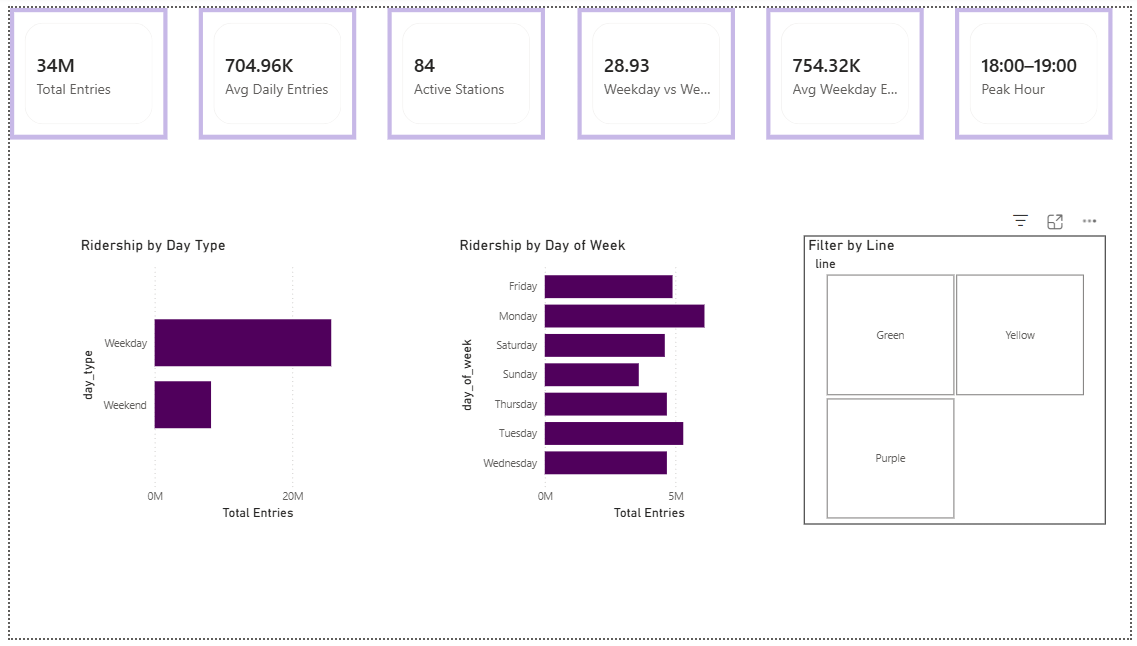

What the dashboard file says about the page in this screenshot:
{"tool":"powerbi","page":{"name":"Time Patterns","canvas":[1280,720],"ordinal":2},"visuals":[{"type":"cardVisual","fields":{"Data":["powerbi_ridership.Total Entries"]},"box":[0,0,180,150],"z":0},{"type":"cardVisual","fields":{"Data":["powerbi_ridership.Avg Daily Entries"]},"box":[216,0,180,150],"z":1000},{"type":"cardVisual","fields":{"Data":["powerbi_ridership.Active Stations"]},"box":[432,0,180,150],"z":2000},{"type":"cardVisual","fields":{"Data":["powerbi_ridership.Weekday vs Weekend %"]},"box":[648,0,180,150],"z":3000},{"type":"cardVisual","fields":{"Data":["powerbi_ridership.Peak Hour"]},"box":[1080,0,180,150],"z":4000},{"type":"cardVisual","fields":{"Data":["powerbi_ridership.Avg Weekday Entries"]},"box":[864,0,180,150],"z":5000},{"type":"clusteredBarChart","title":"Ridership by Day Type","fields":{"Category":["powerbi_ridership.day_type"],"Y":["powerbi_ridership.Total Entries"]},"box":[75.7,260,342.9,330],"z":5001},{"type":"clusteredBarChart","title":"Ridership by Day of Week","fields":{"Category":["powerbi_ridership.day_of_week"],"Y":["powerbi_ridership.Total Entries"]},"box":[508.6,260,355.7,330],"z":5002},{"type":"slicer","title":"Filter by Line","fields":{"Values":["powerbi_ridership.line"]},"box":[907.1,260,344.3,330],"z":5003}]}

Visuals, with their boxes in screenshot pixels (x1, y1, x2, y2), scaled from the page's 1280x720 canvas onto the 1137x646 screenshot:
cardVisual - powerbi_ridership.Total Entries: left=0, top=0, right=160, bottom=135
cardVisual - powerbi_ridership.Avg Daily Entries: left=192, top=0, right=352, bottom=135
cardVisual - powerbi_ridership.Active Stations: left=384, top=0, right=544, bottom=135
cardVisual - powerbi_ridership.Weekday vs Weekend %: left=576, top=0, right=735, bottom=135
cardVisual - powerbi_ridership.Peak Hour: left=959, top=0, right=1119, bottom=135
cardVisual - powerbi_ridership.Avg Weekday Entries: left=767, top=0, right=927, bottom=135
"Ridership by Day Type" clusteredBarChart: left=67, top=233, right=372, bottom=529
"Ridership by Day of Week" clusteredBarChart: left=452, top=233, right=768, bottom=529
"Filter by Line" slicer: left=806, top=233, right=1112, bottom=529
